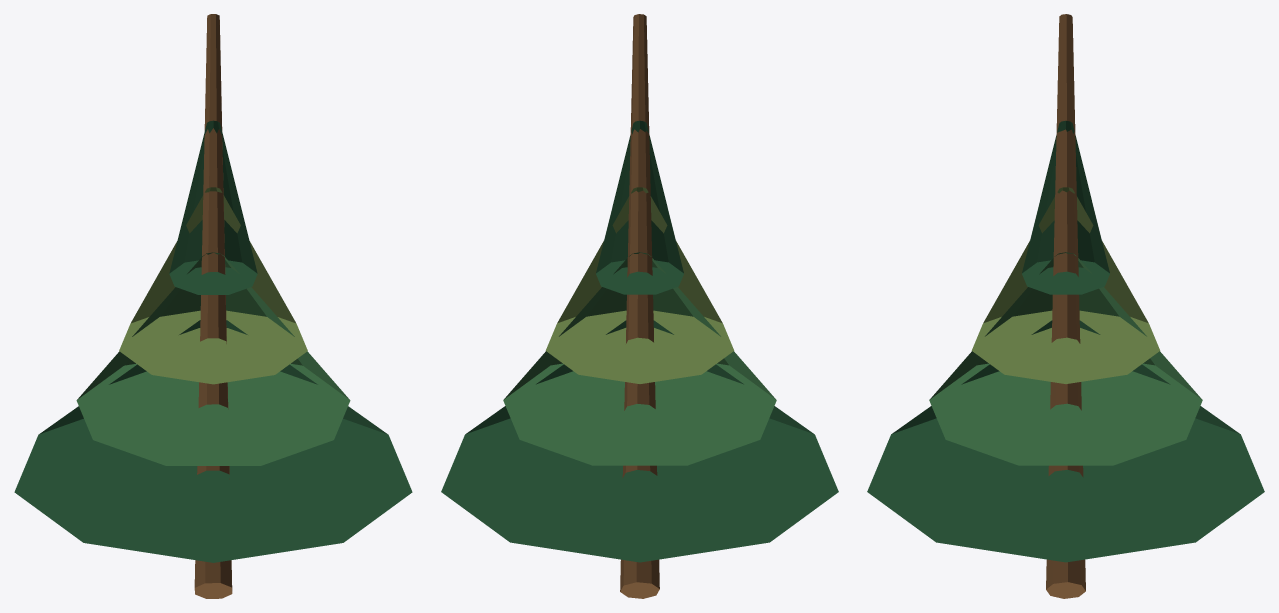
The model's file is vegetation-sapling-01.glb.
3 renders of one model, left to right at view 1: azimuth 30°, elevation 25°; view 2: azimuth 150°, elevation 25°; view 3: azimuth 270°, elevation 25°, orthographic.
Parts seen in each view (by area): view 1: vegetation-sapling-01; view 2: vegetation-sapling-01; view 3: vegetation-sapling-01.
Boxes of the visible parts, left/top/right/bottom form: vegetation-sapling-01: left=14, top=14, right=412, bottom=598; vegetation-sapling-01: left=441, top=14, right=838, bottom=598; vegetation-sapling-01: left=867, top=14, right=1264, bottom=598.
Size of the model in its own units: 0.8782 by 1.42 by 0.8918.
